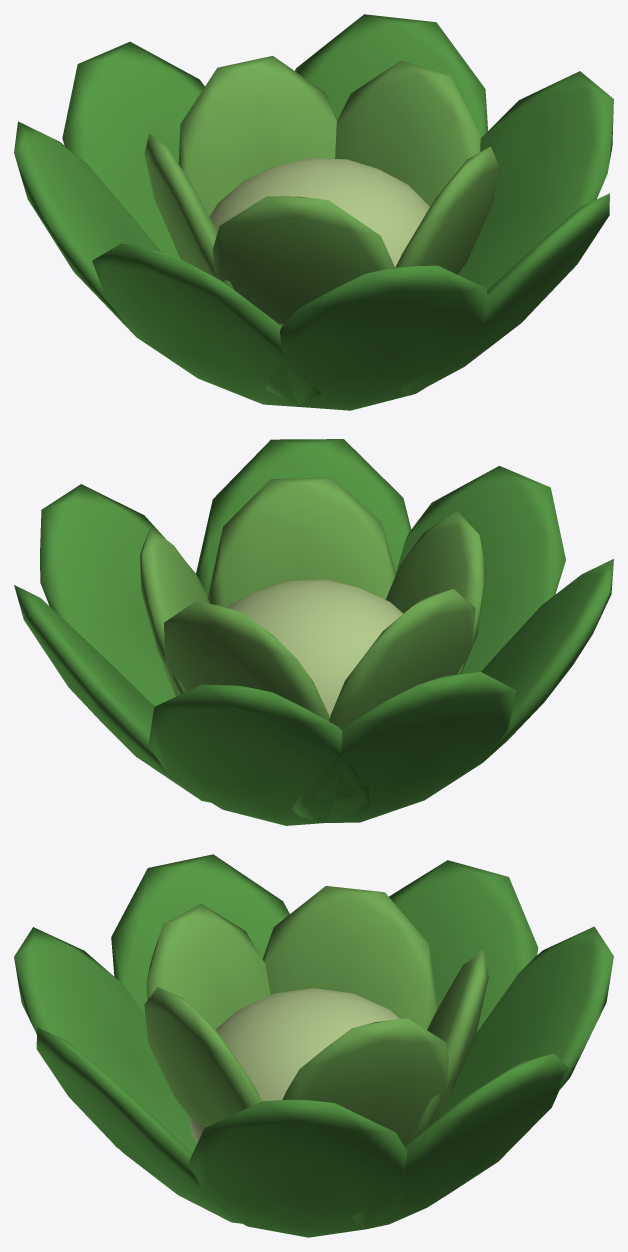
Rendered from crop_cabbage.glb.
The picture shows the model from 3 angles, top to bottom: view 1: azimuth 30°, elevation 25°; view 2: azimuth 150°, elevation 25°; view 3: azimuth 270°, elevation 25°; orthographic projection. The views are drawn at different scales.
Parts seen in each view (by area): view 1: crop_cabbage_main; view 2: crop_cabbage_main; view 3: crop_cabbage_main.
Boxes of the visible parts, left/top/right/bottom form: crop_cabbage_main: left=14, top=14, right=613, bottom=410; crop_cabbage_main: left=14, top=439, right=613, bottom=825; crop_cabbage_main: left=14, top=854, right=613, bottom=1237.
Bounding box in the file's own units: 0.5962 × 0.2692 × 0.6078.
